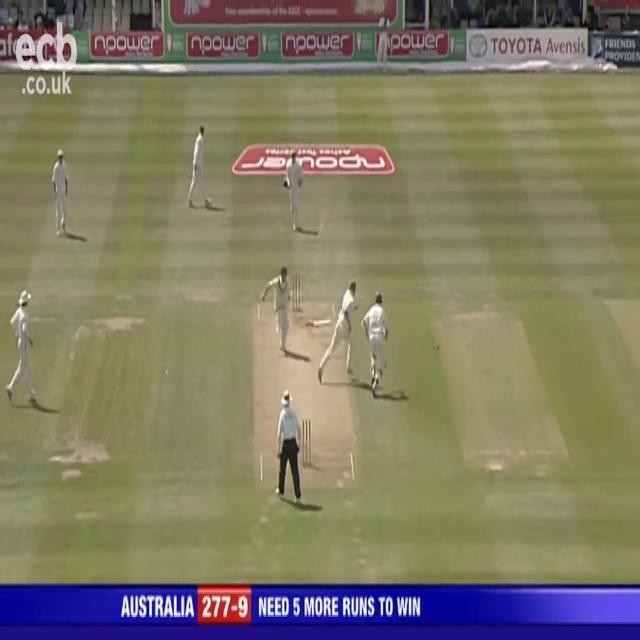ball: (436, 342, 441, 356)
